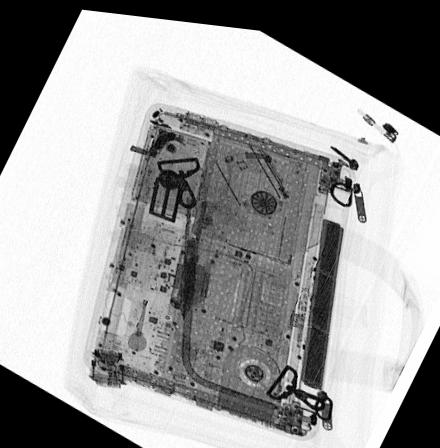Scissors: (172, 194, 212, 322)
